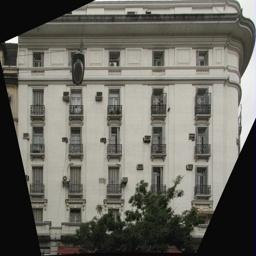building: (18, 0, 242, 237)
